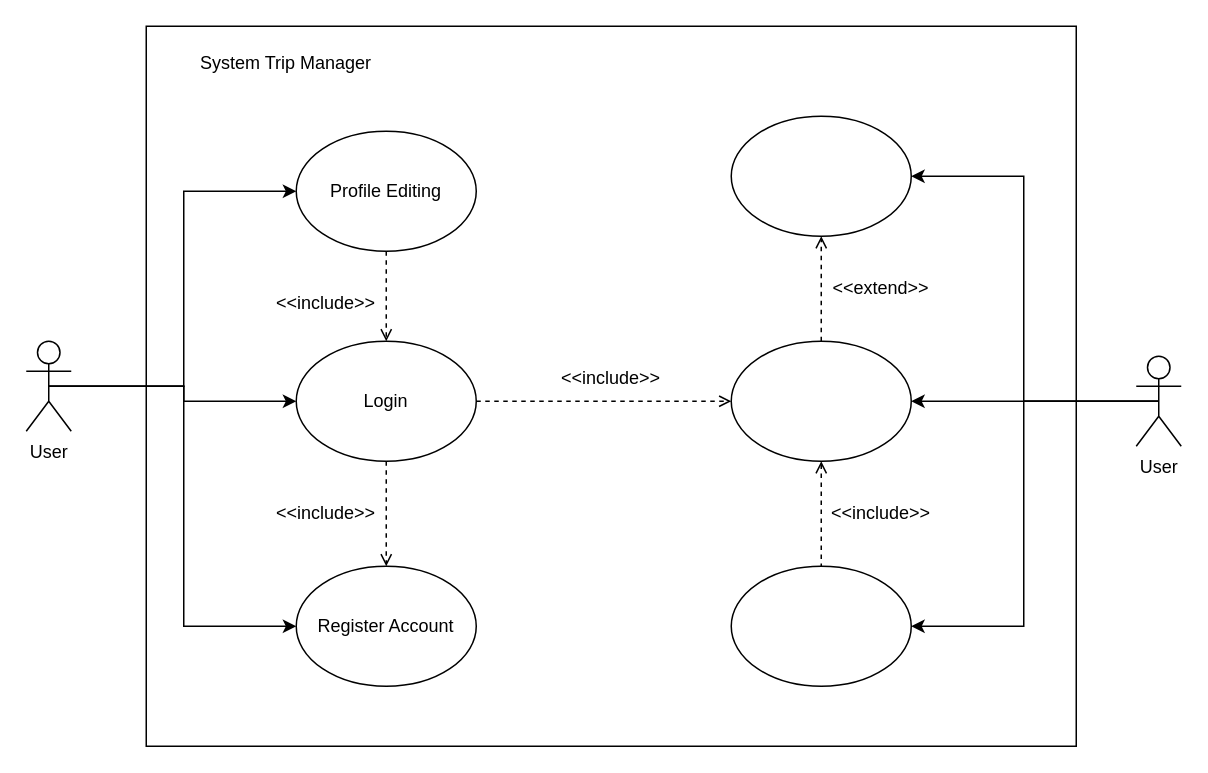
Image size: 1208x773. Some labels were removed from this diagram. The shapes that lost their labels are listed below. From the top down, each one's centre as x and y in pixels, then its label:
(x=820, y=175): select Trip Type
(x=820, y=400): create Trip
(x=820, y=625): Trips verwalten
